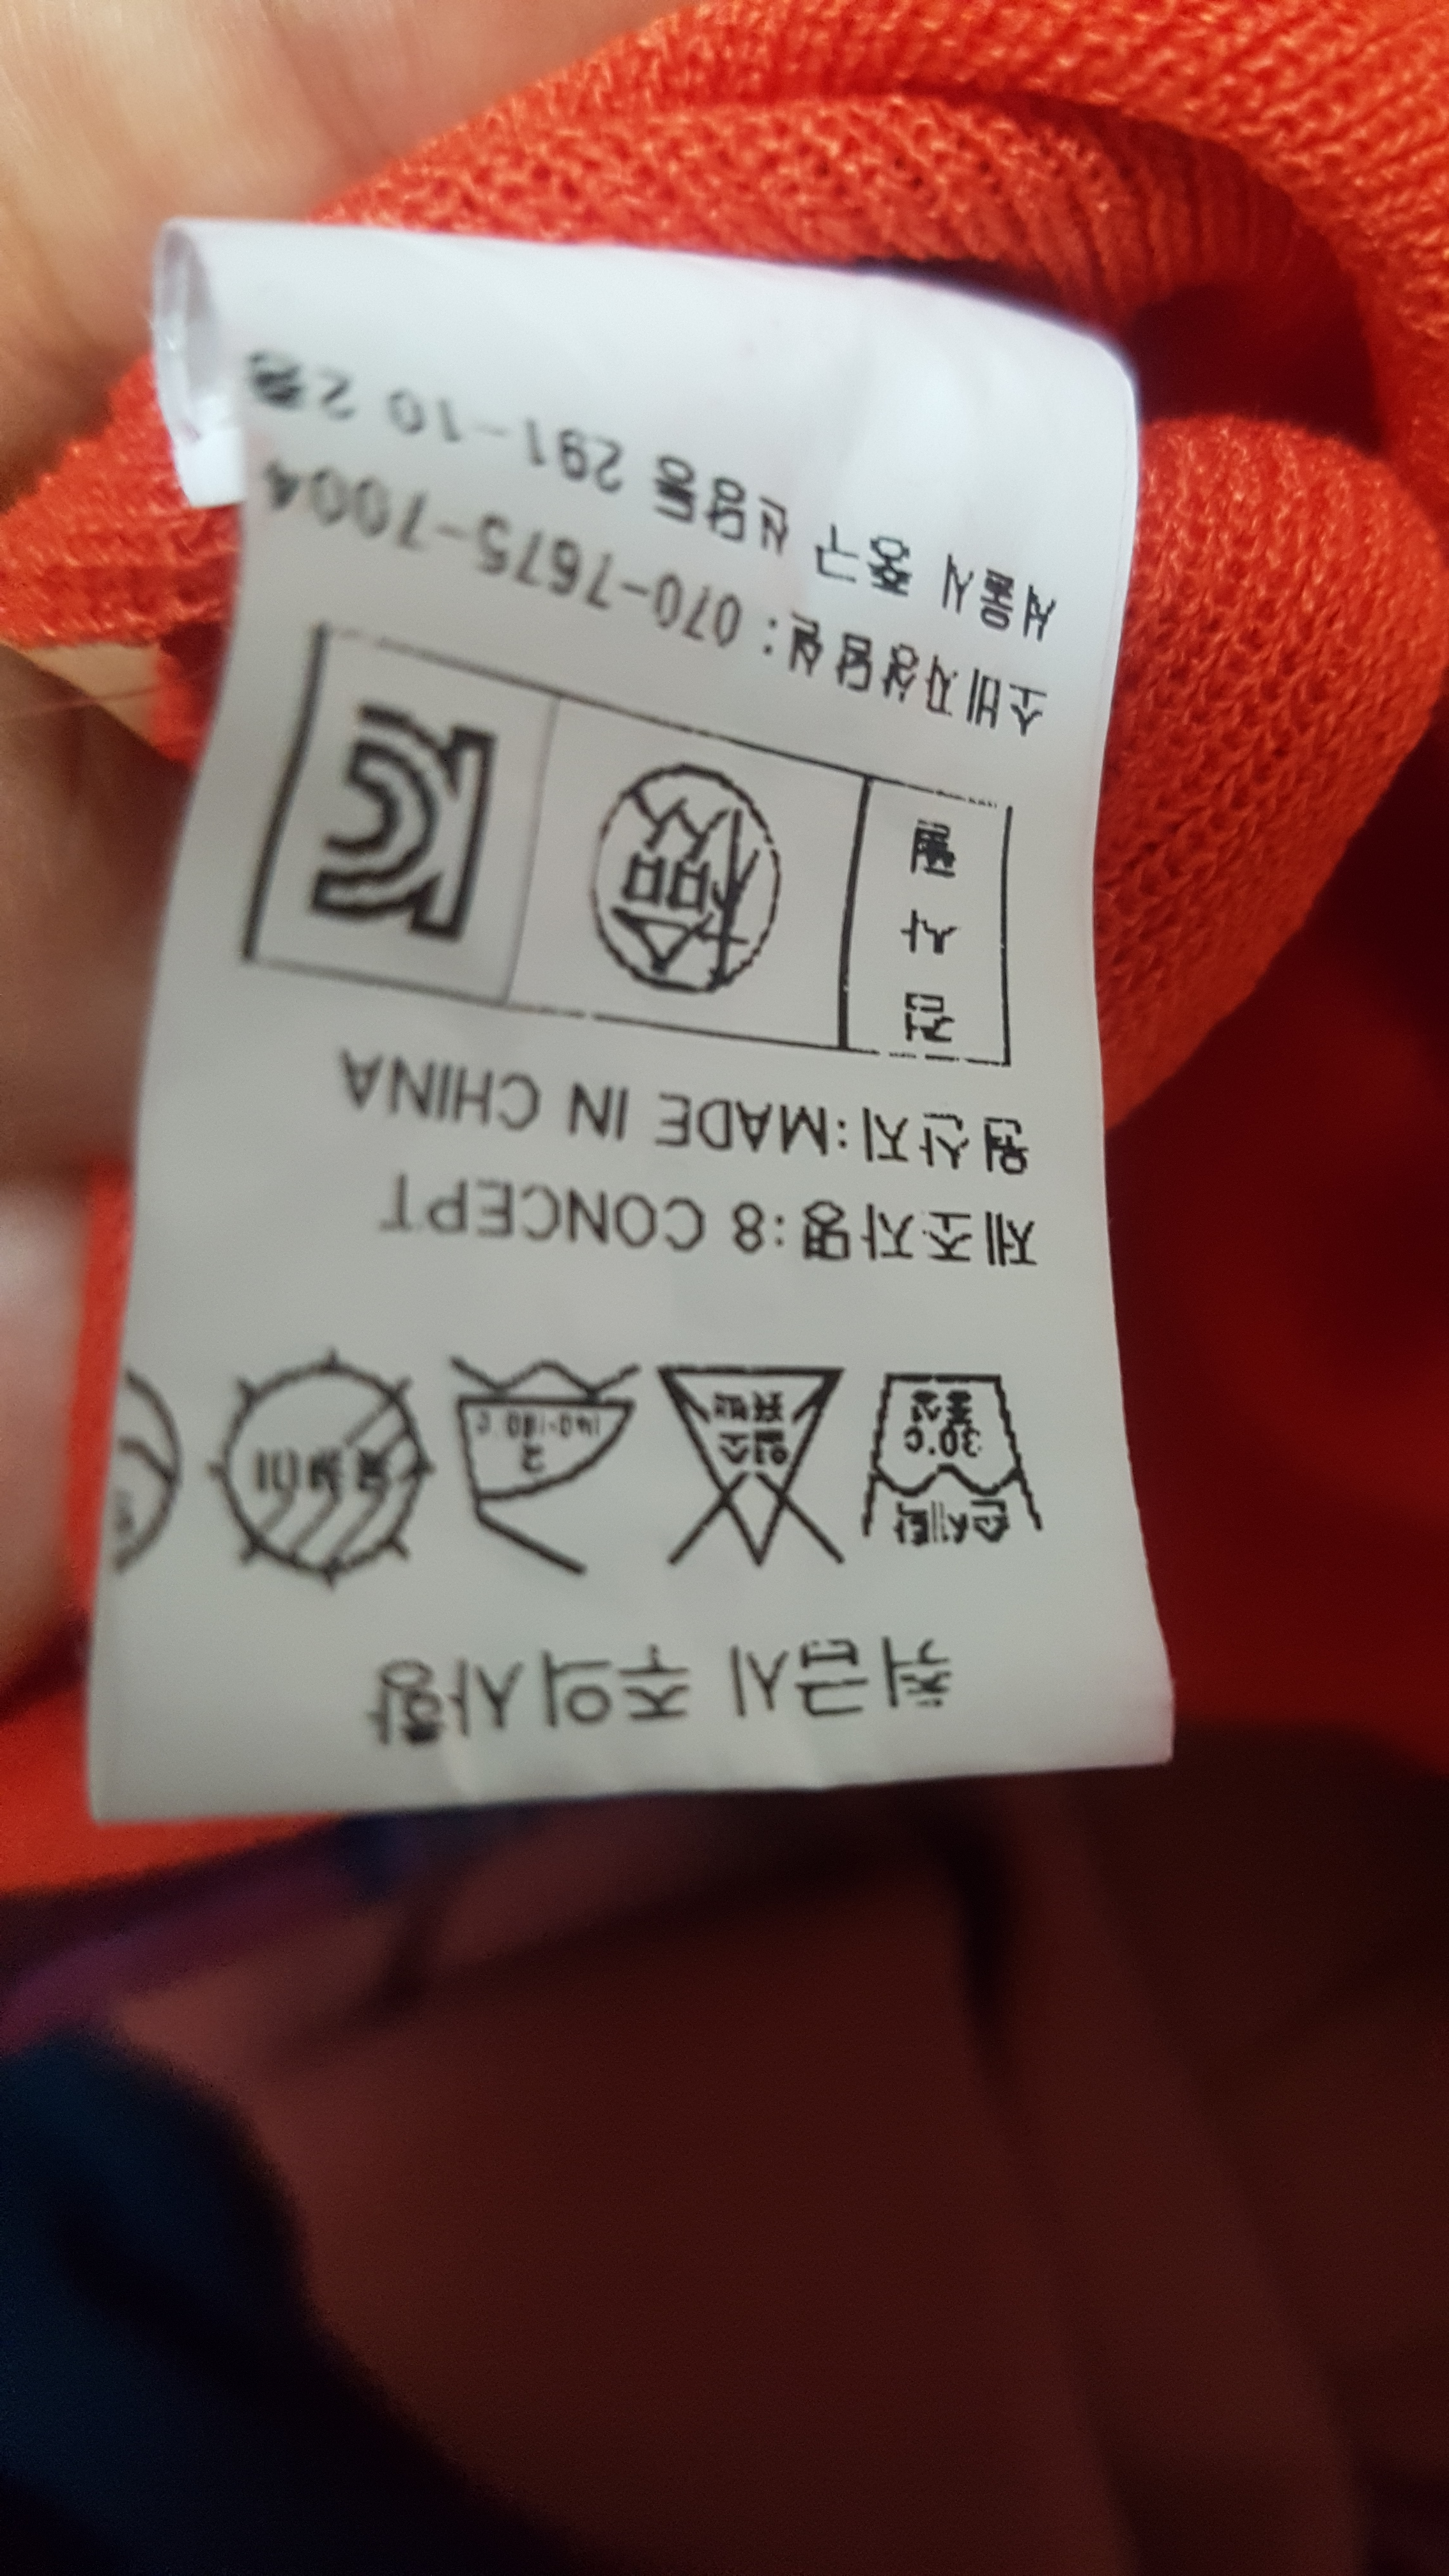do_not_bleach: (536, 1606, 649, 1727)
